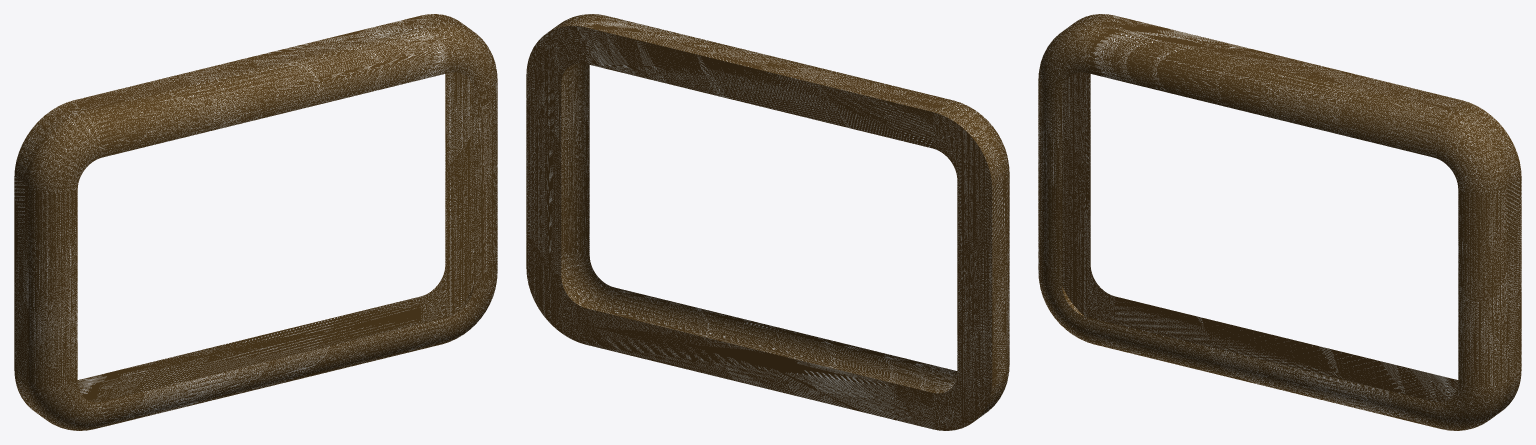
The model's file is original-20.obj.
The picture shows the model from 3 angles, left to right: view 1: azimuth 30°, elevation 25°; view 2: azimuth 150°, elevation 25°; view 3: azimuth 330°, elevation 25°; orthographic projection.
Parts seen in each view (by area): view 1: mesh1/mesh1-geometry/material_3/component_0#mesh1-geometry; view 2: mesh1/mesh1-geometry/material_3/component_0#mesh1-geometry; view 3: mesh1/mesh1-geometry/material_3/component_0#mesh1-geometry.
Boxes of the visible parts, box(x1,y1,x2,y2) form: mesh1/mesh1-geometry/material_3/component_0#mesh1-geometry: box(14, 14, 497, 430); mesh1/mesh1-geometry/material_3/component_0#mesh1-geometry: box(526, 14, 1009, 430); mesh1/mesh1-geometry/material_3/component_0#mesh1-geometry: box(1038, 14, 1521, 430).
Bounding box in the file's own units: 0.3023 × 0.1968 × 0.0325.
